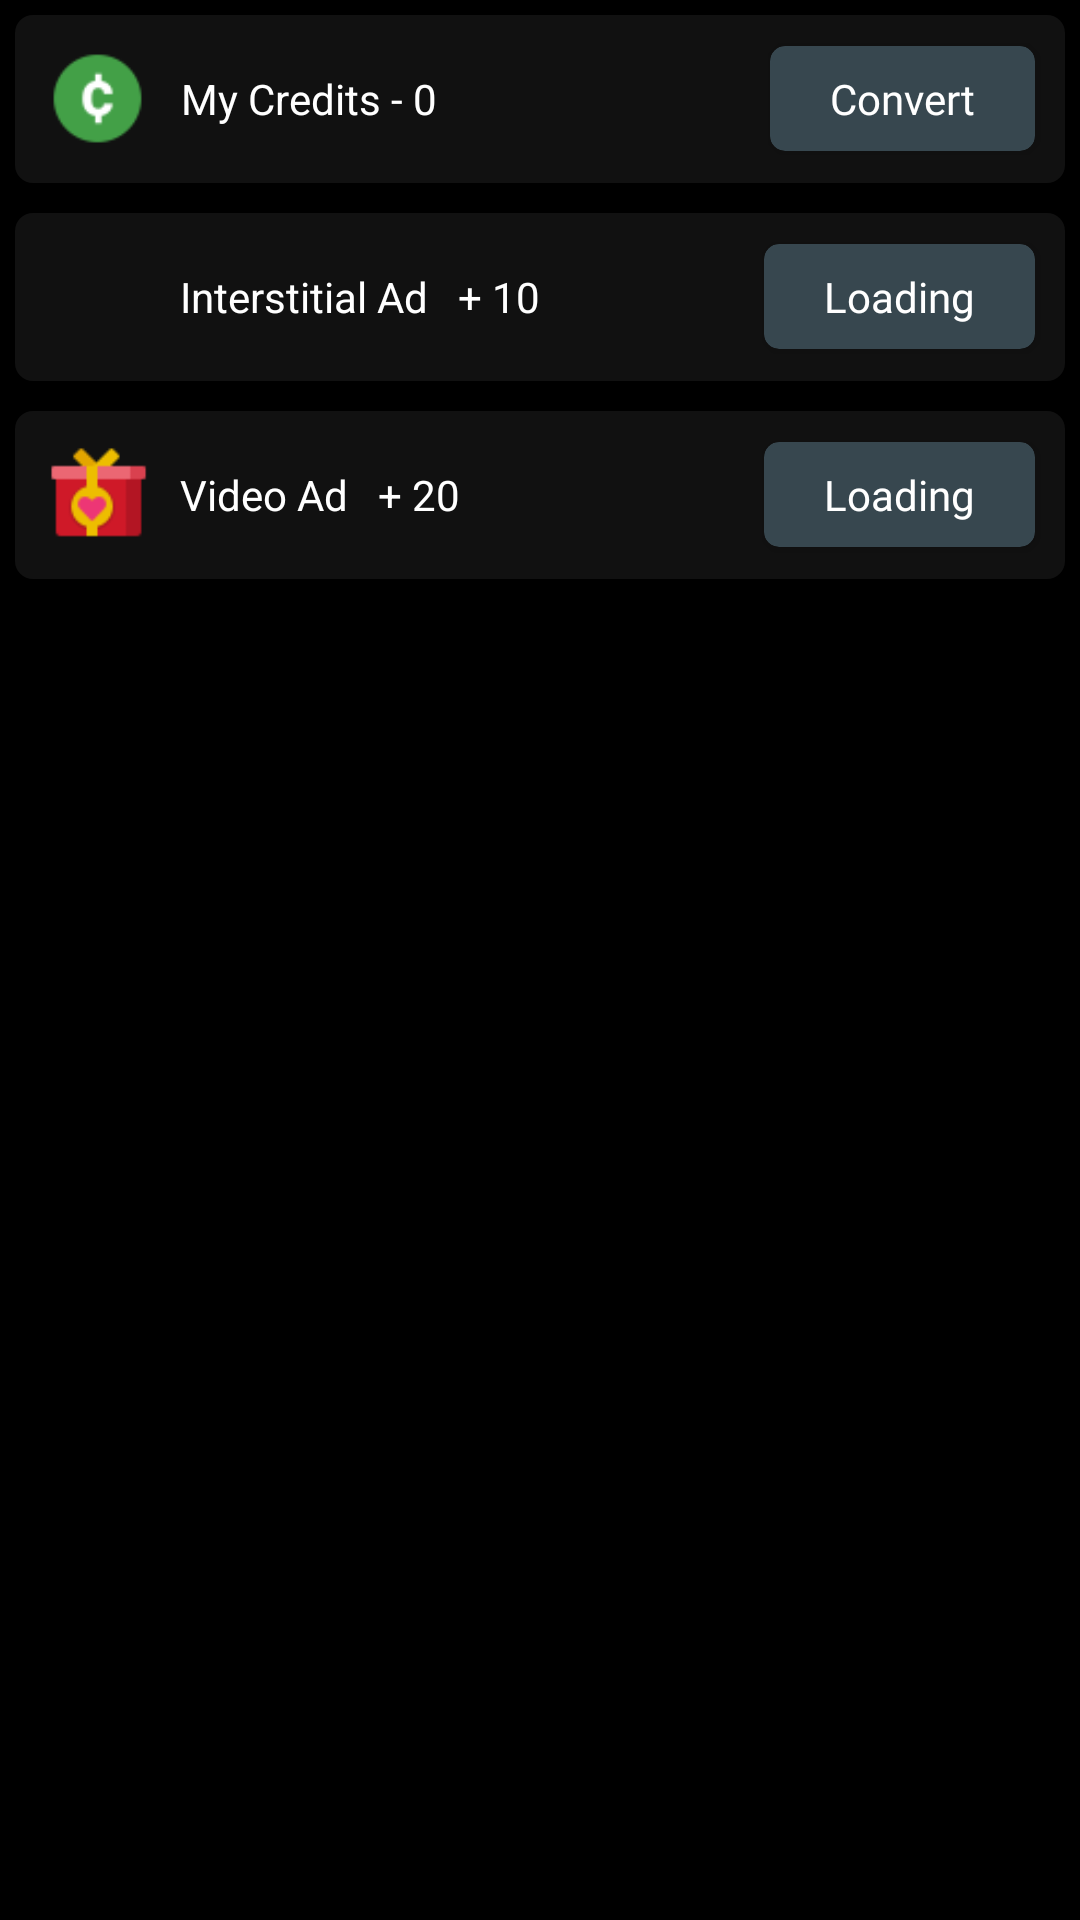

Where to tap for icons on this 1080*1920 app screen, as [x,y]:
gift: [98,492]
